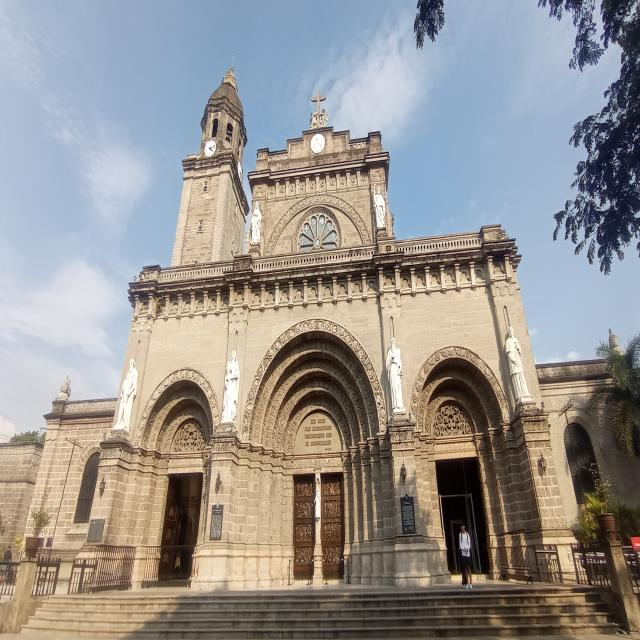Manila Cathedral: (0, 56, 640, 640)
